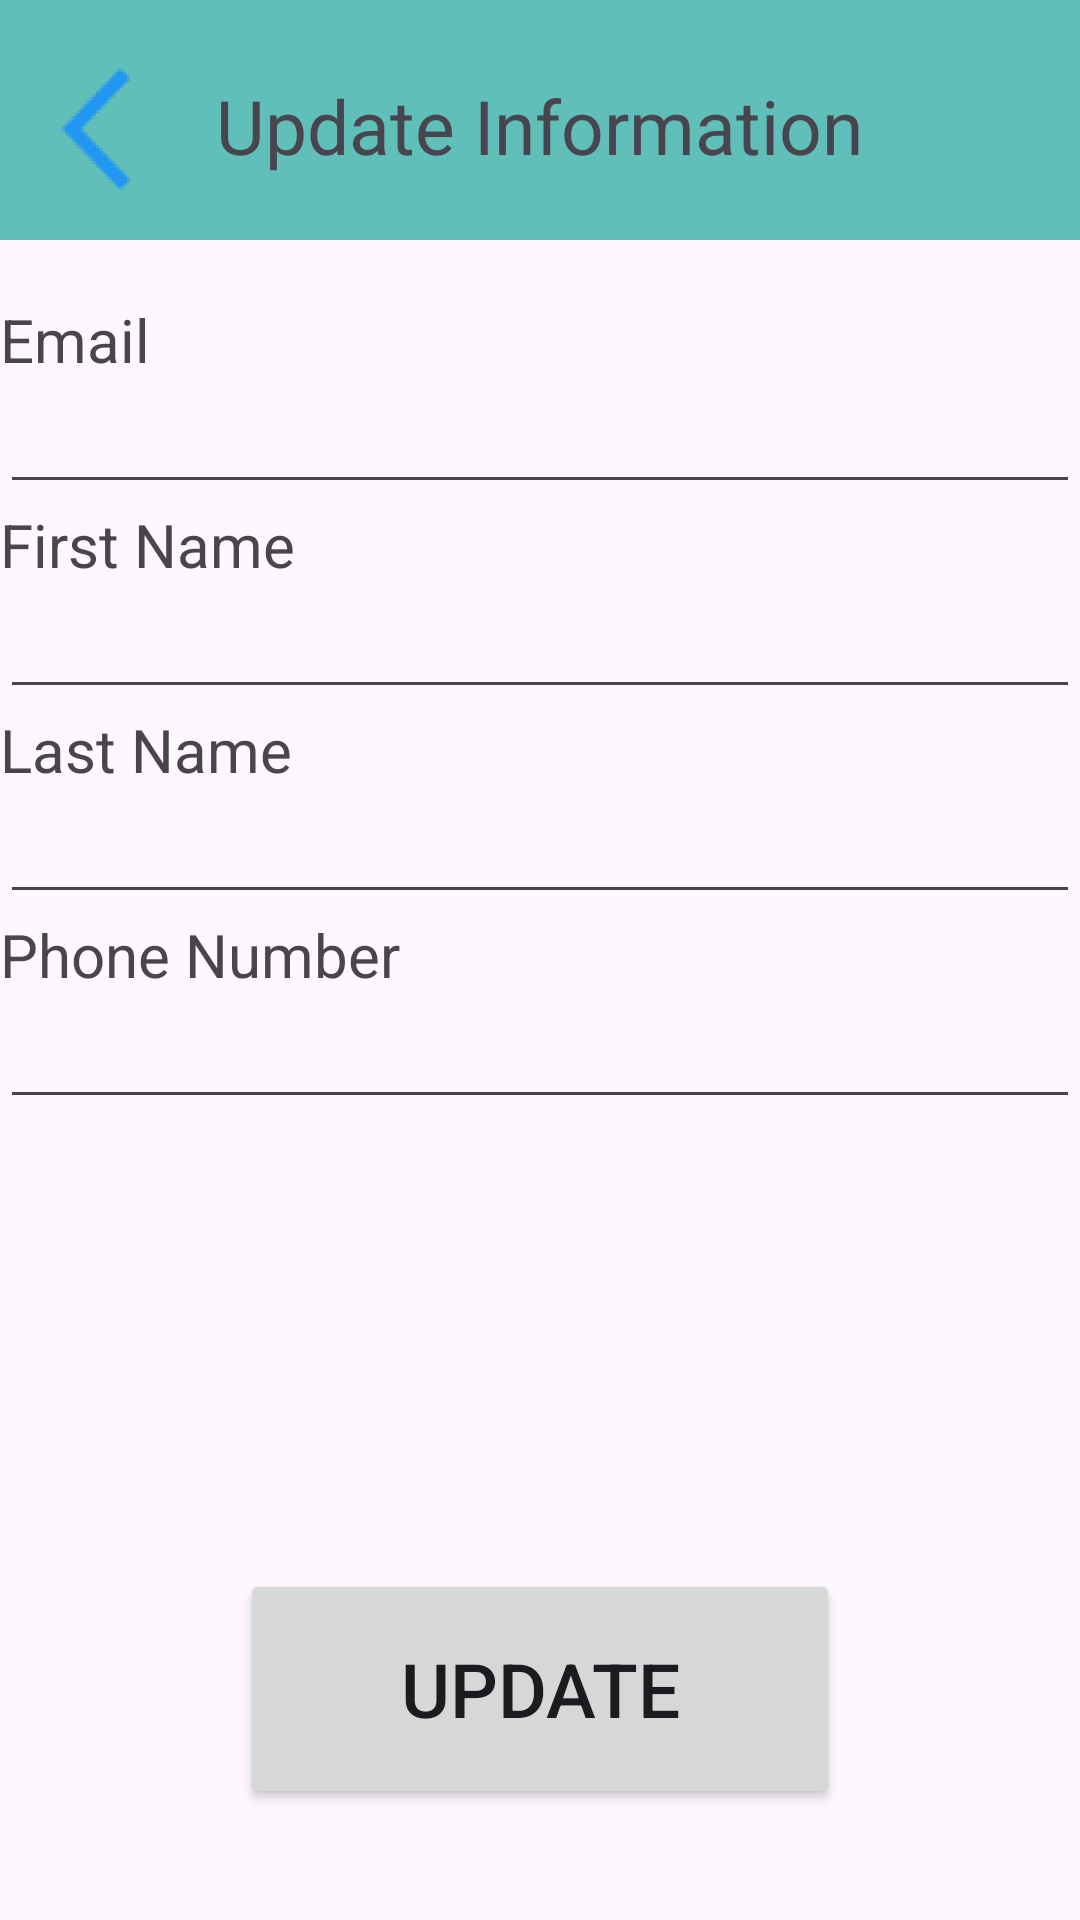

Named icons in this screenshot (1080px×1920px) and their bounding boxes, (x1, y1, x2, y2):
back: (62, 69, 130, 189)
